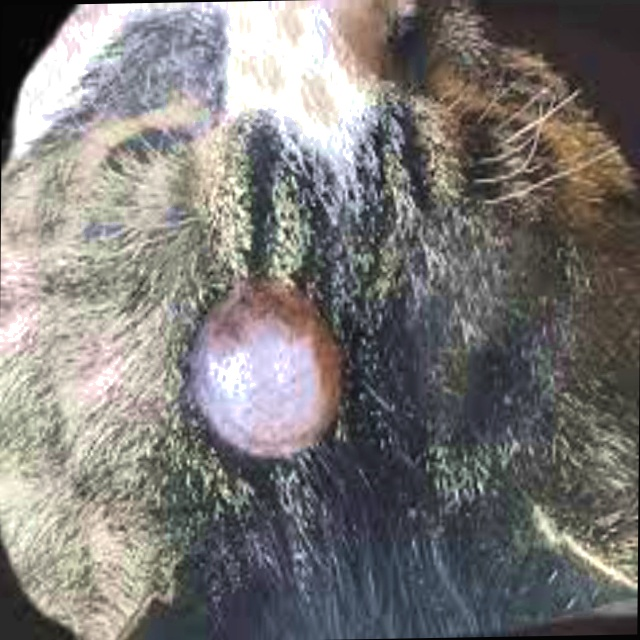lump_and_bump: (194, 274, 347, 476)
